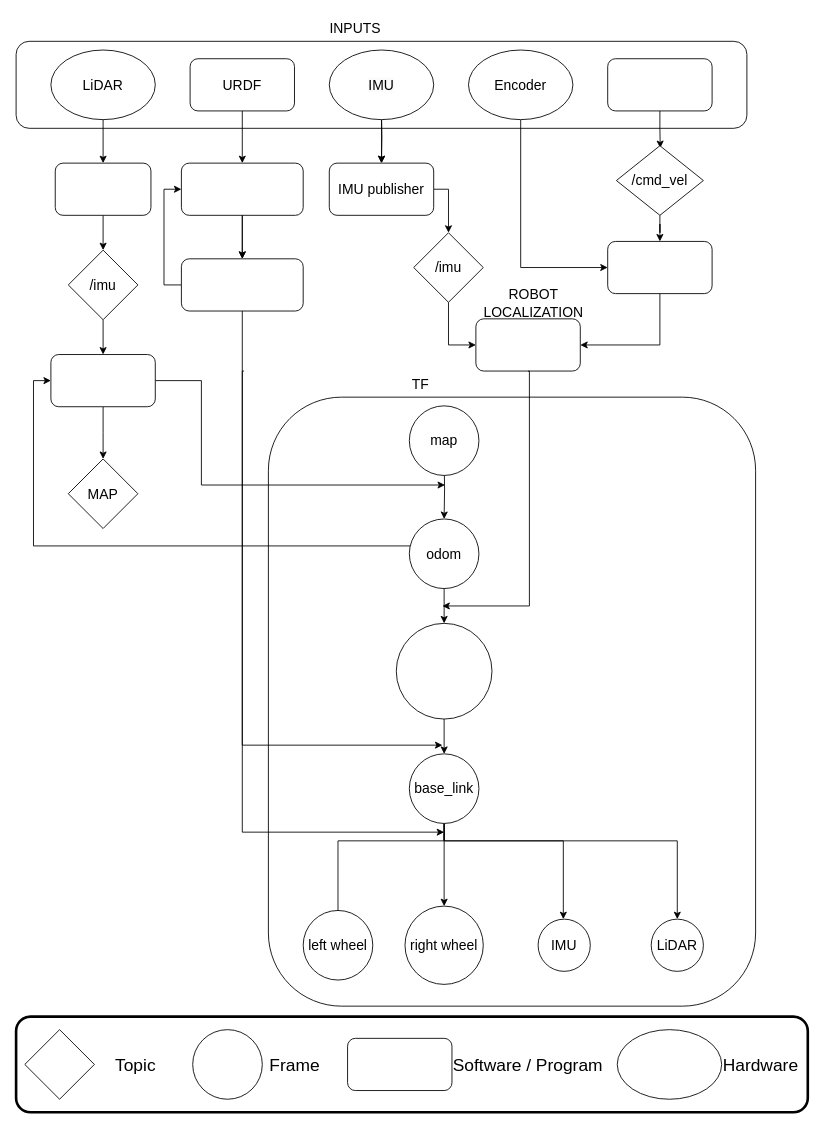
Some shapes in this 824 by 1128 pixel diagram are drawn without their labels. Here are the shapes that lost their labels. From the top down, the box of each, then its label:
(607, 58, 712, 111): Teleop
(54, 162, 151, 215): sllidar_ros2
(181, 162, 303, 215): Robot State Publisher
(181, 258, 303, 311): Joint State Publisher
(607, 241, 712, 294): Motor Node
(475, 318, 580, 371): EKF_Local
(50, 354, 155, 407): SLAM TOOLBOX
(395, 622, 492, 719): base_footprint
